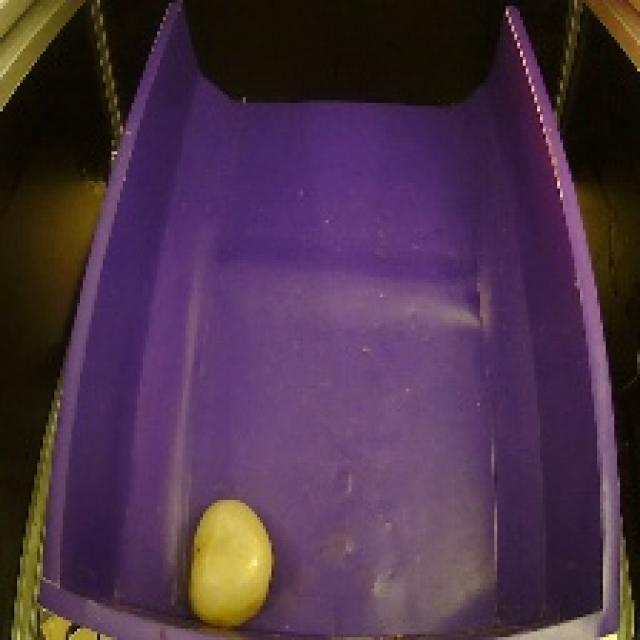cobbles: (183, 483, 277, 633)
